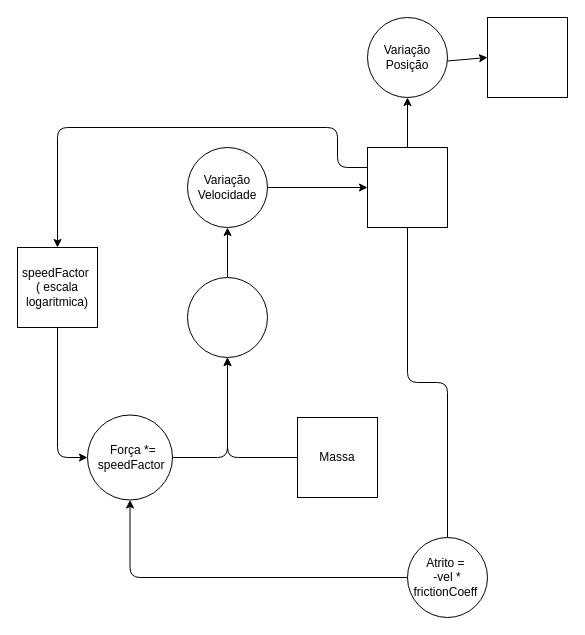
This 585x635 diagram has some shape labels left out. Here are the shapes that lost their labels. From the top down, the centre of each, then its label:
At pixel 527 57: "posição".
At pixel 407 187: "Velocidade= atrito+variação vel".
At pixel 227 317: "acc = Força / Massa".
